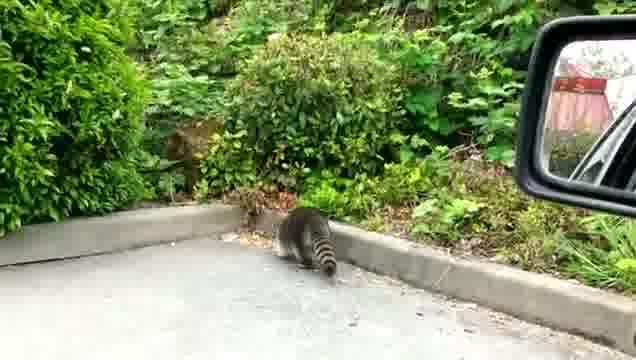raccoon: (273, 205, 339, 277)
